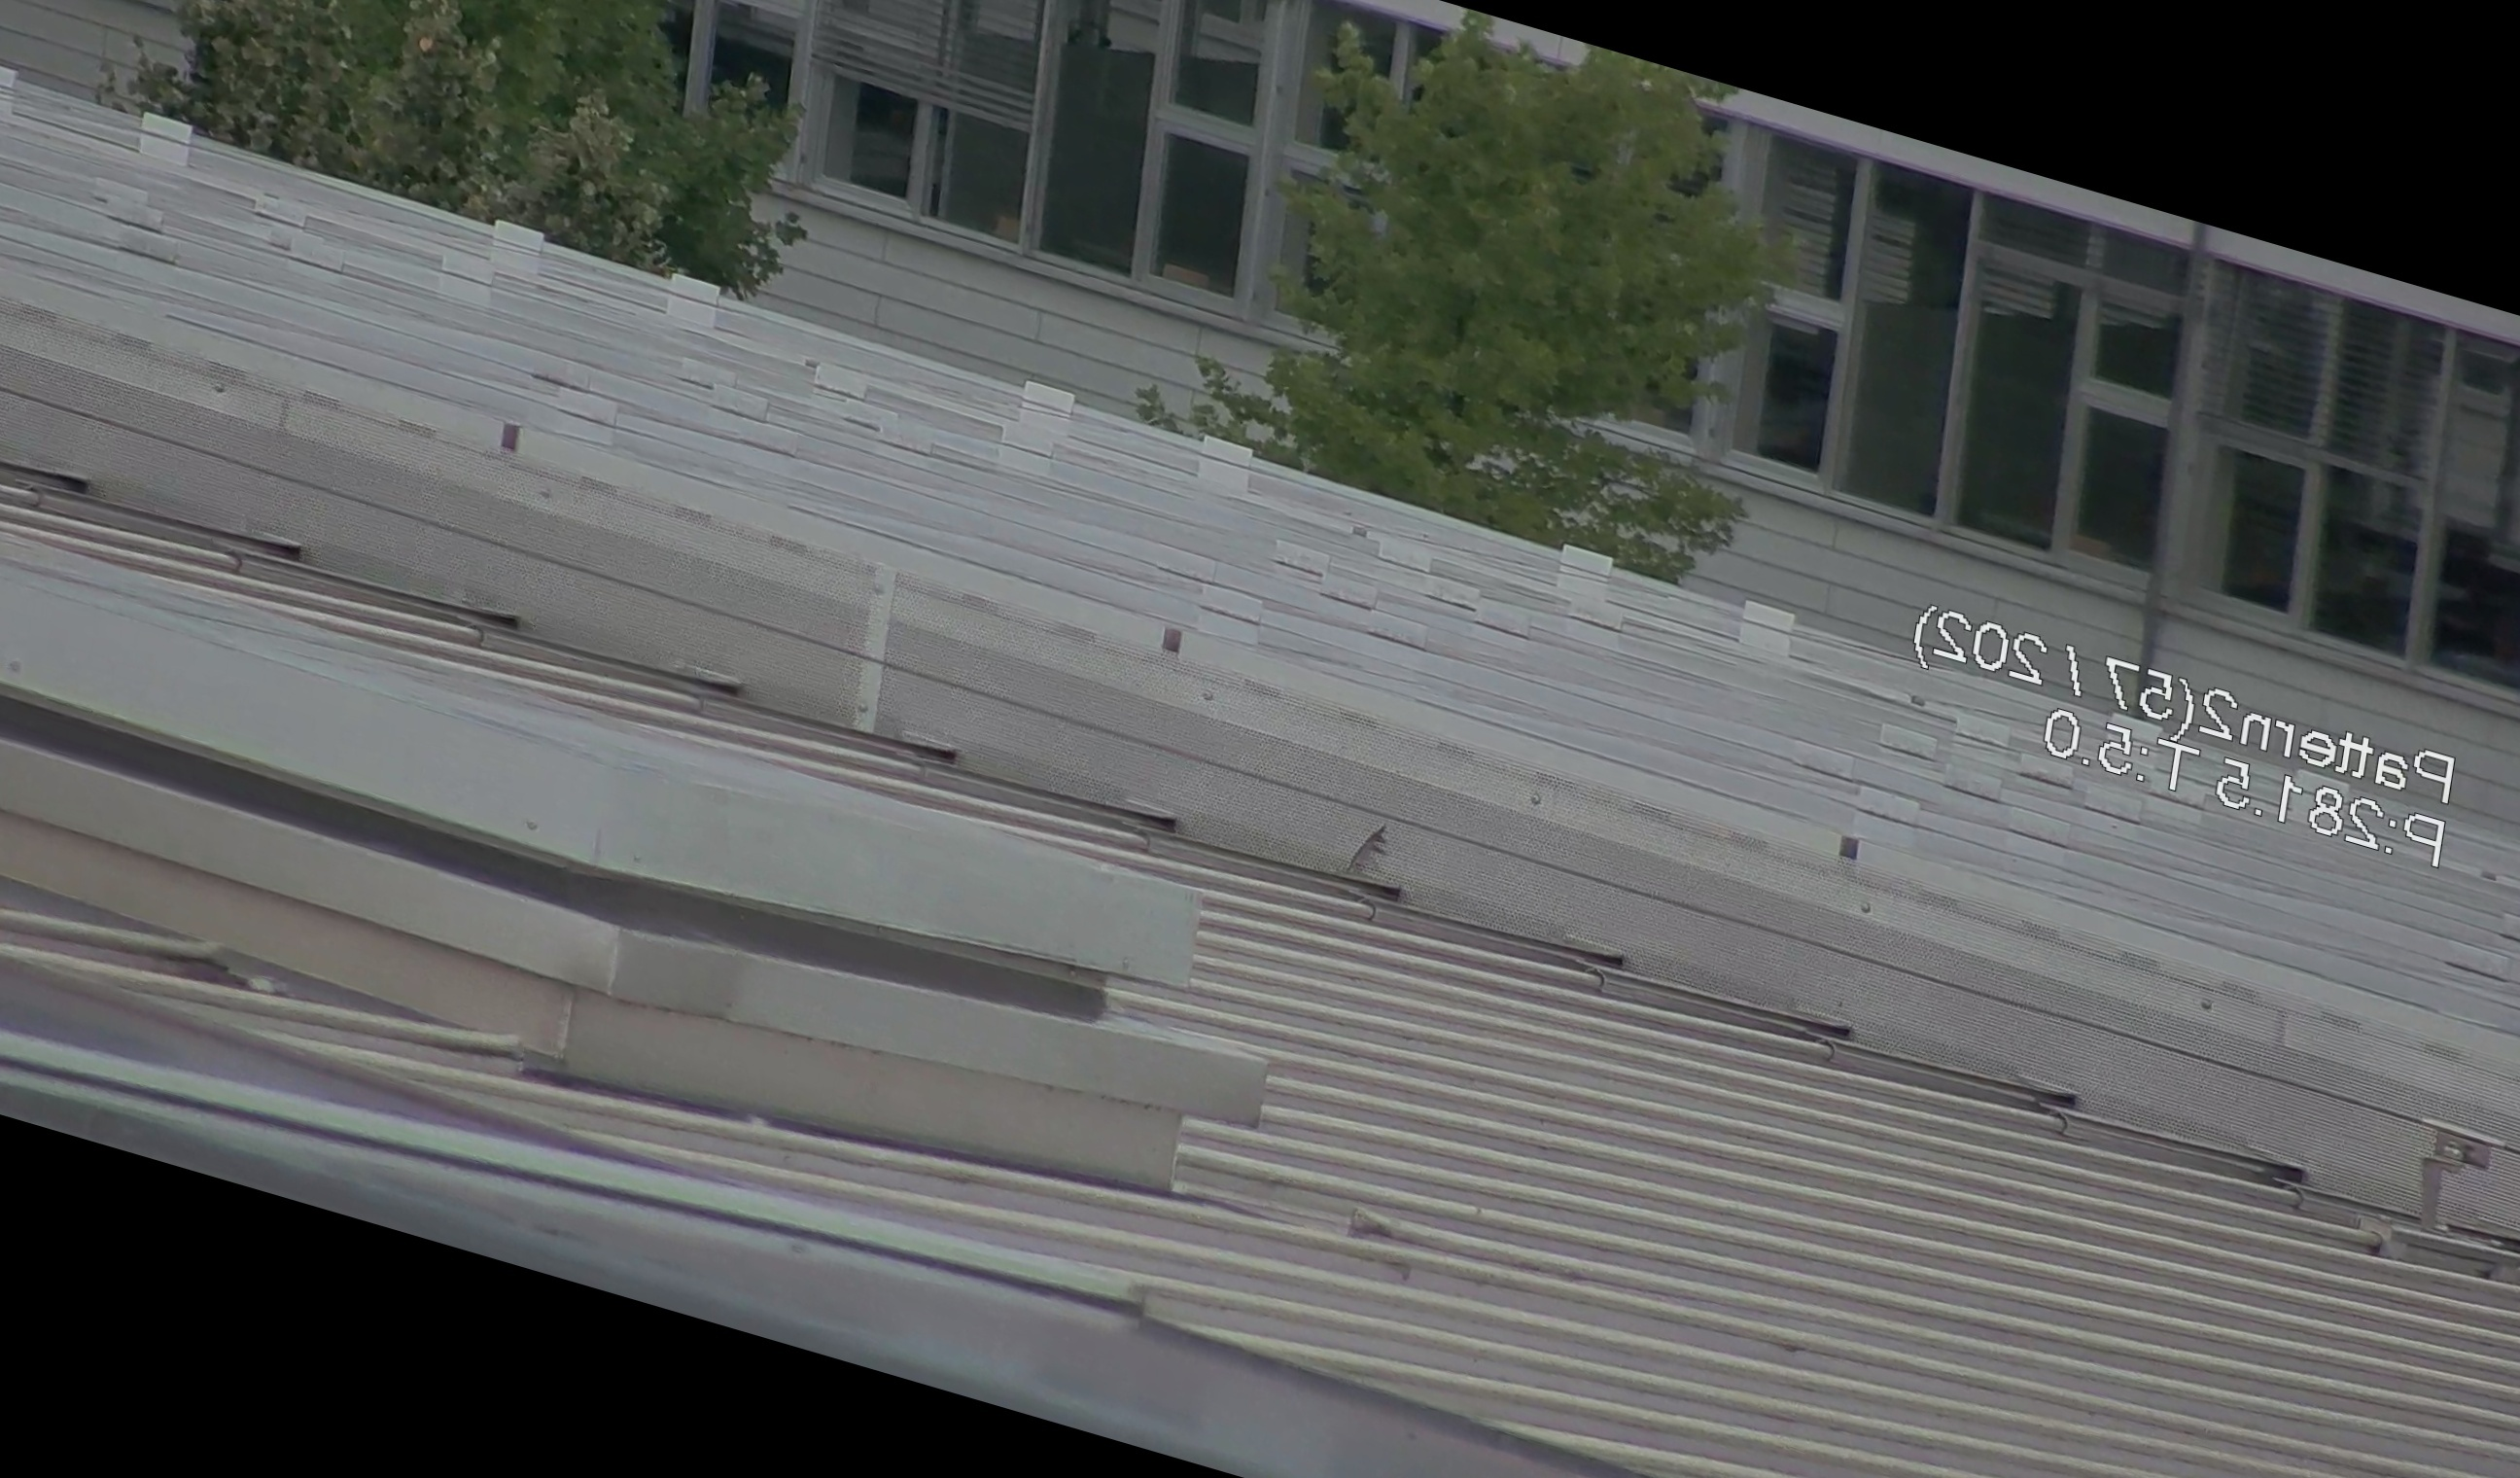Other: (1338, 795, 1416, 918)
